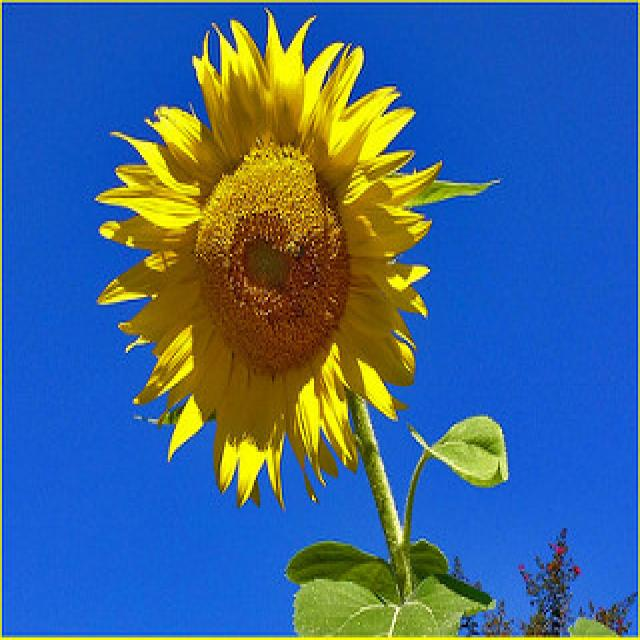sunflower: (86, 2, 446, 514)
